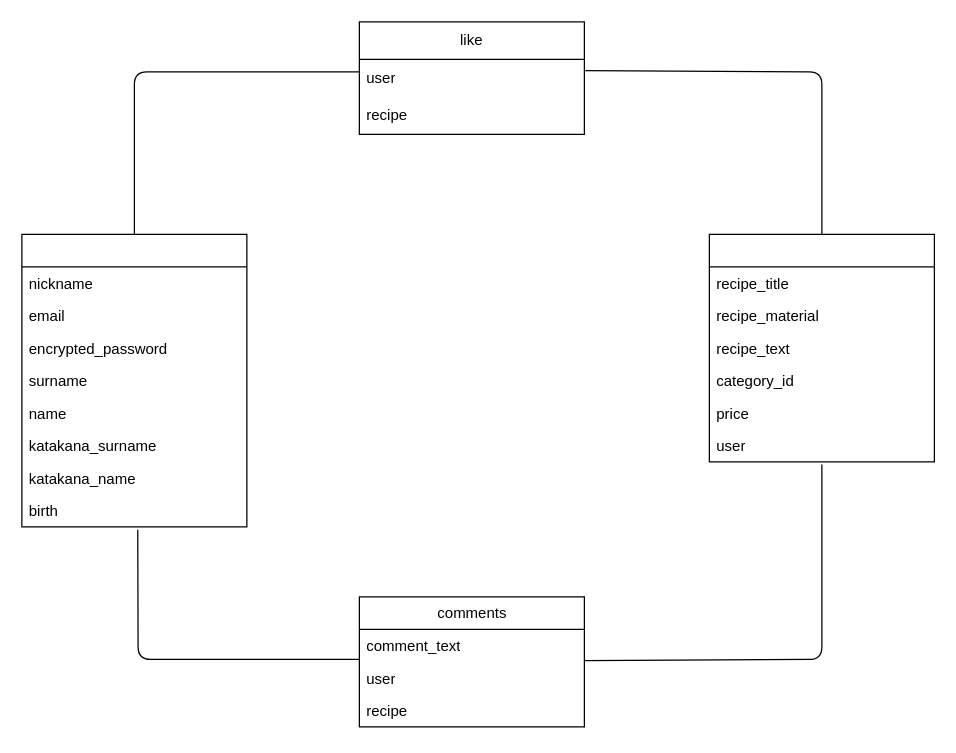
Some shapes in this 956 by 753 pixel diagram are drawn without their labels. The shapes that lost their labels are listed below. From the top down, each one's box as (x1, y1, x2, y2) in pixels, then its label:
(708, 233, 934, 462): recipes
(21, 233, 247, 527): users
